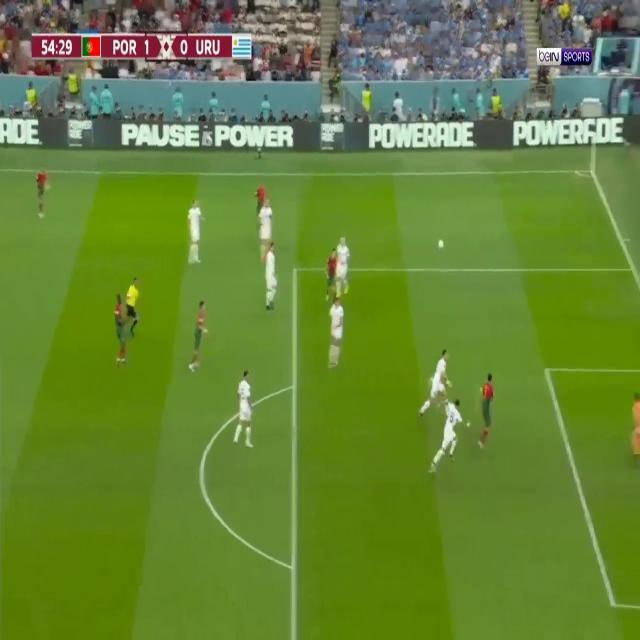ball: (438, 241, 444, 250)
team1: (187, 301, 211, 374), (475, 372, 497, 450), (112, 294, 128, 367), (35, 167, 52, 220), (324, 248, 337, 300), (252, 180, 266, 216)
team2: (428, 398, 470, 472), (418, 346, 452, 415), (233, 367, 254, 450), (265, 240, 281, 312), (328, 298, 344, 370), (188, 198, 204, 267), (258, 198, 276, 259), (337, 232, 351, 303)
